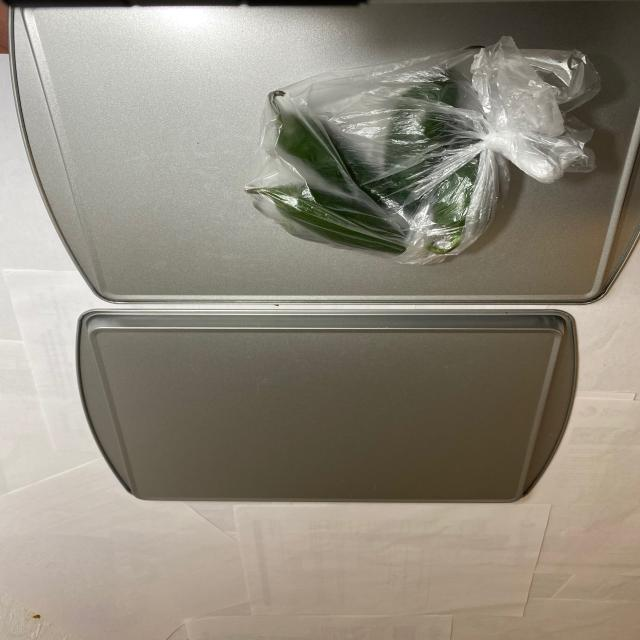chilli: (247, 42, 512, 264)
